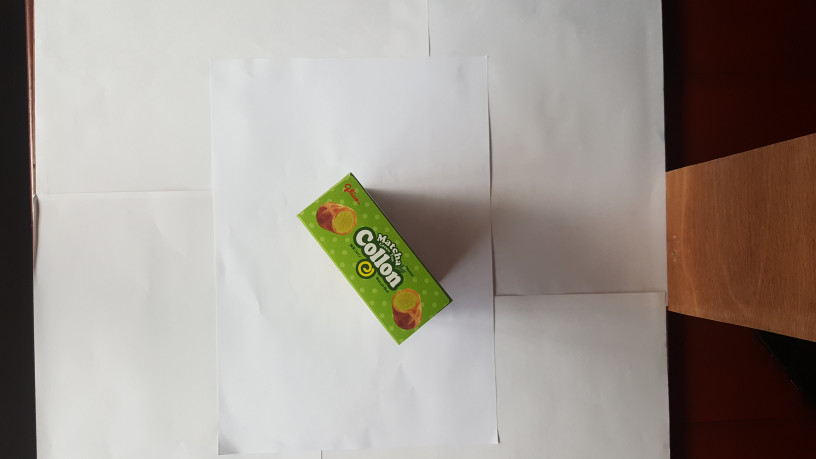collon-matcha: (295, 174, 455, 346)
